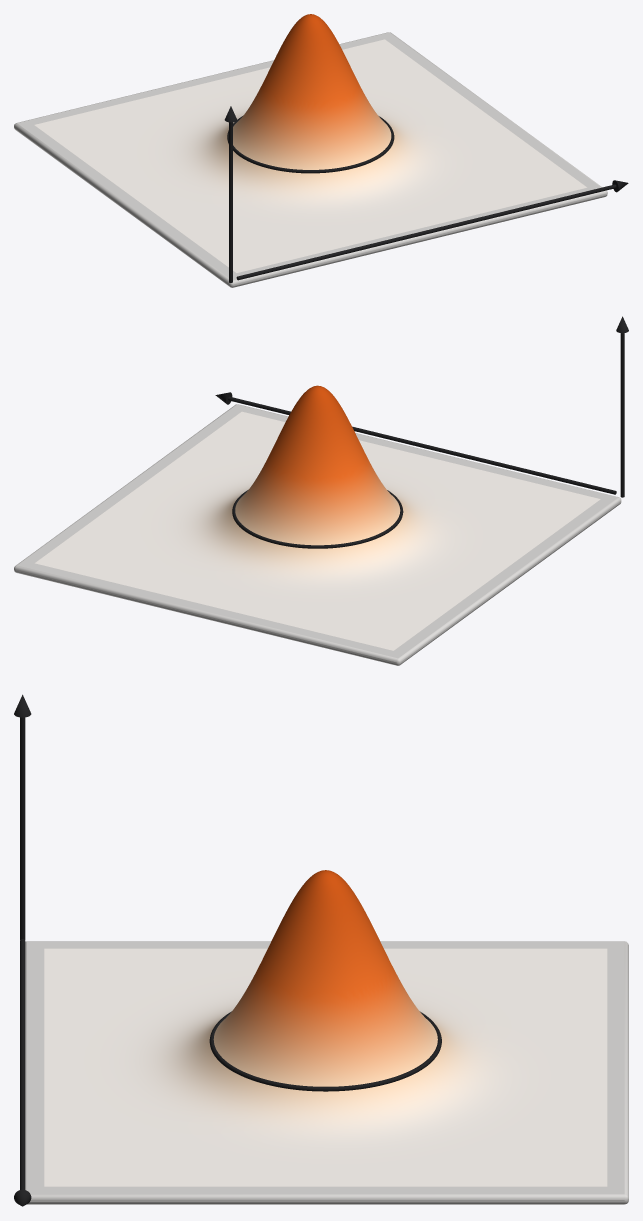
The model's file is gauss.glb.
3 renders of one model, top to bottom at view 1: azimuth 30°, elevation 25°; view 2: azimuth 150°, elevation 25°; view 3: azimuth 270°, elevation 25°, orthographic. The views are drawn at different scales.
Parts seen in each view (by area): view 1: surface_gauss, socle_papier, axe_x, anneau_w, axe_z; view 2: surface_gauss, socle_papier, axe_x, anneau_w, axe_z; view 3: surface_gauss, socle_papier, anneau_w, axe_x, axe_z.
Part boxes in pixels (box(x1,y1,x2,y2)): surface_gauss: box(34, 14, 586, 272); socle_papier: box(14, 32, 607, 287); axe_x: box(236, 184, 616, 280); anneau_w: box(227, 116, 394, 173); axe_z: box(229, 122, 232, 282); surface_gauss: box(35, 385, 600, 650); socle_papier: box(14, 404, 621, 665); axe_x: box(228, 396, 616, 494); anneau_w: box(232, 490, 403, 548); axe_z: box(620, 333, 624, 497); surface_gauss: box(44, 870, 607, 1186); socle_papier: box(25, 941, 628, 1204); anneau_w: box(209, 1011, 441, 1091); axe_x: box(20, 939, 25, 1189); axe_z: box(20, 717, 25, 939).
Size of the model in its own units: 120 by 52.05 by 114.
